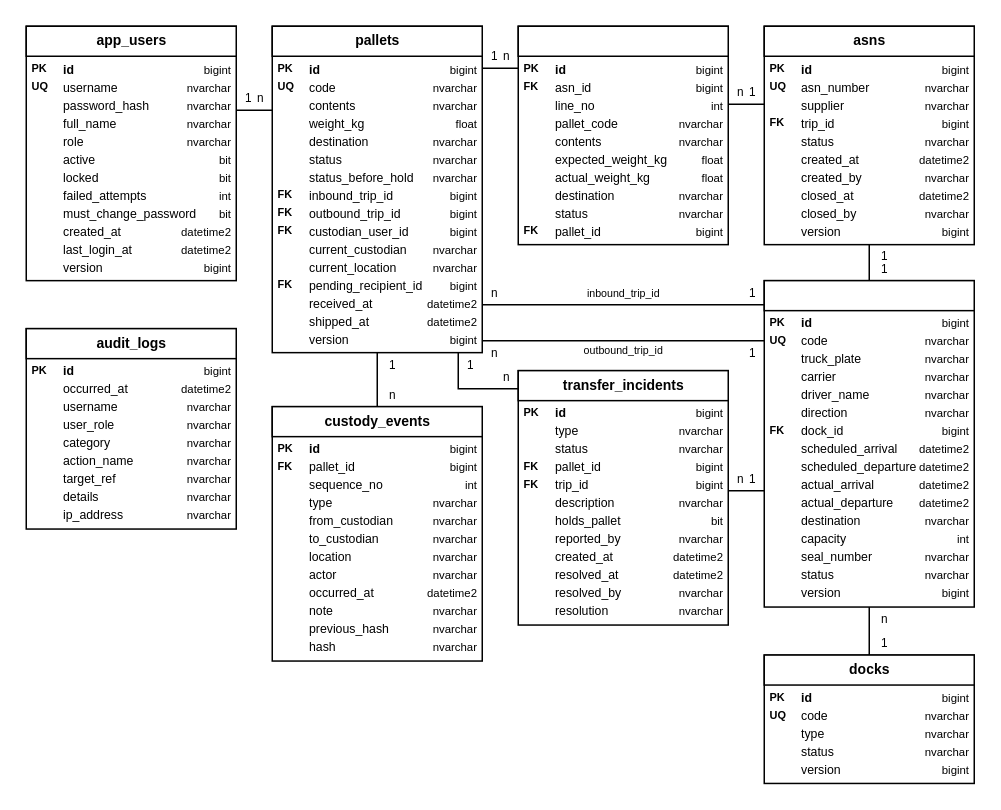
Some shapes in this 1001 by 810 pixel diagram are drawn without their labels. Each missing label, with the centre of its shape:
asn_lines: pixel 622 40
trips: pixel 868 295
